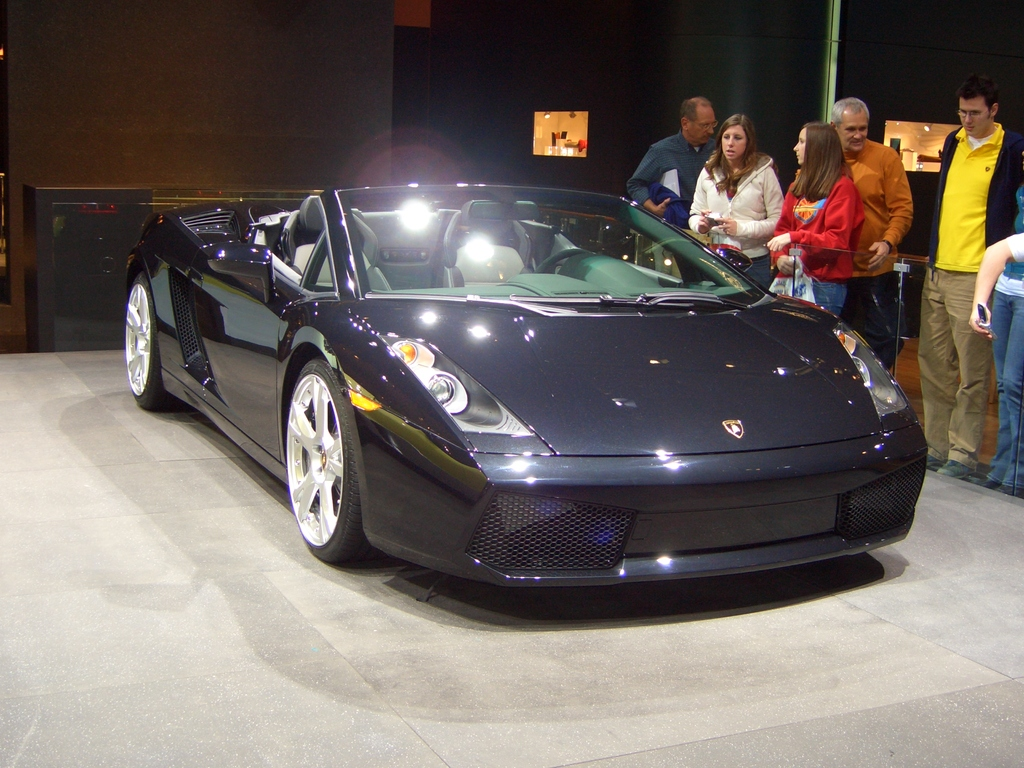Person: (624, 73, 1024, 497)
